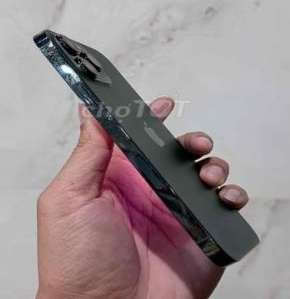scratch: (33, 39, 108, 117)
